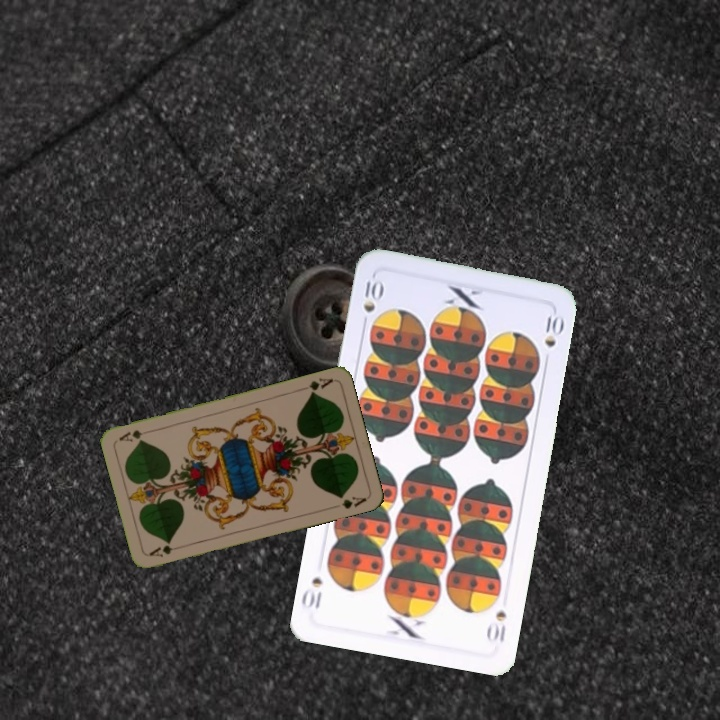GA: (296, 374, 336, 397), (145, 541, 175, 560)
S10: (358, 272, 386, 331), (483, 606, 509, 645)
